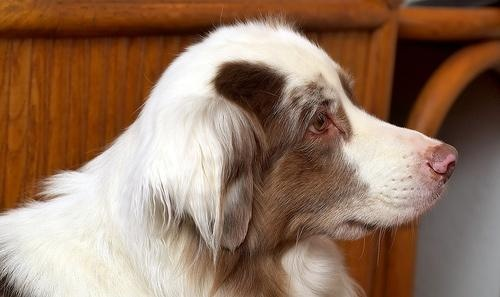dog: (1, 15, 460, 297)
